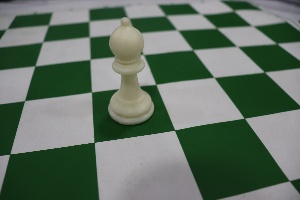white_bishop: (91, 9, 161, 132)
